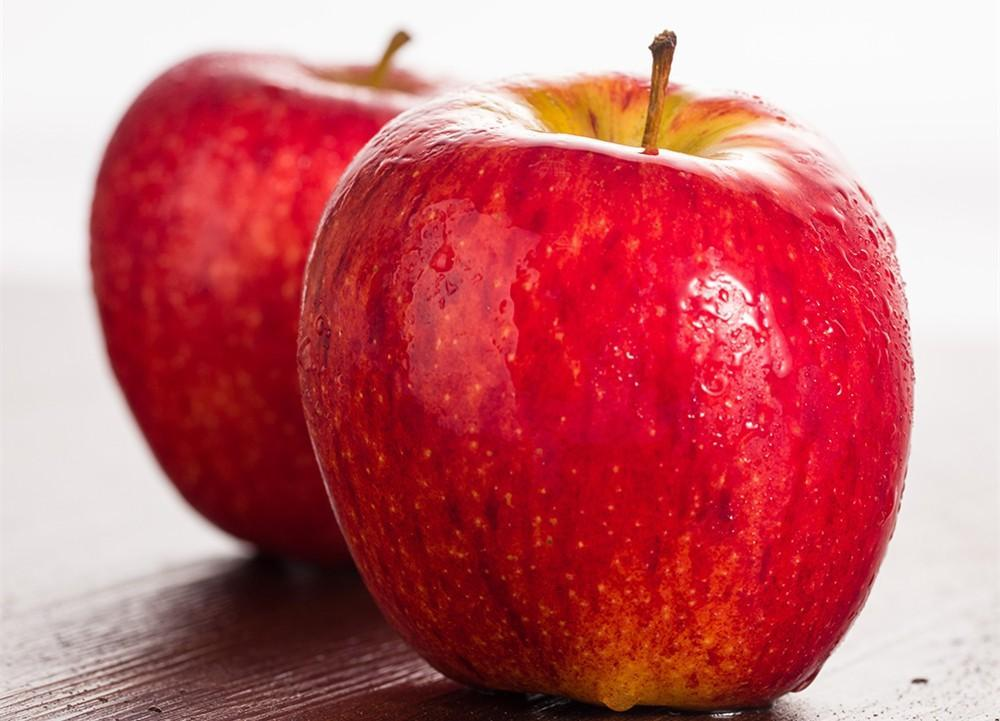apple: (299, 64, 913, 716), (87, 52, 436, 570)
